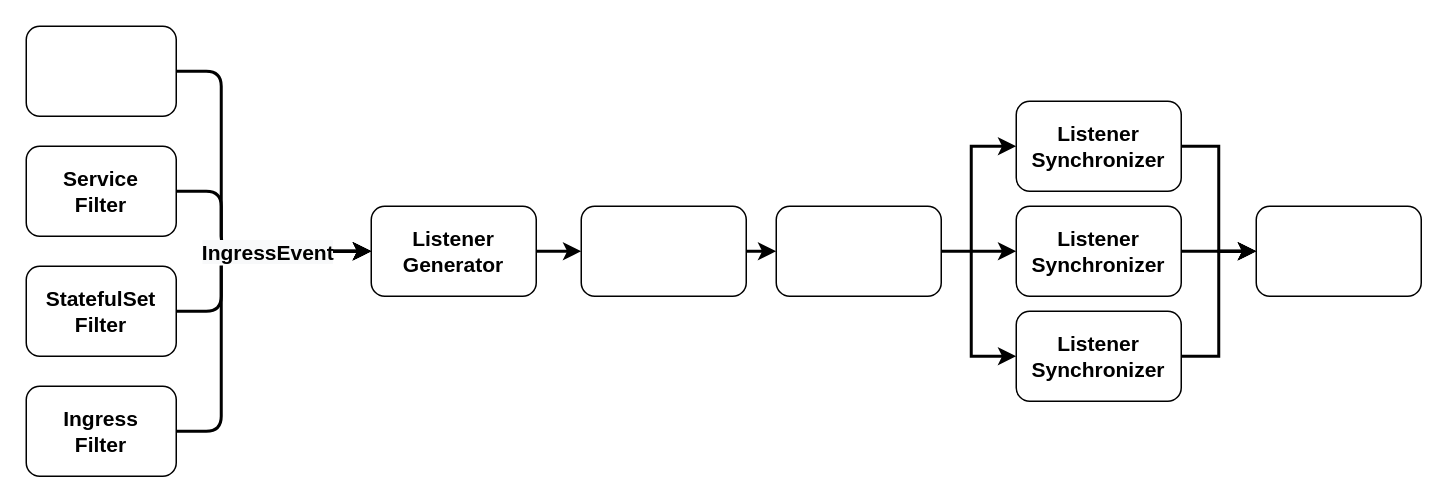
Some shapes in this 1448 by 503 pixel diagram are drawn without their labels. The centre of each missing label's shape, as x and y in pixels:
Cloud: point (1338, 250)
K8S CRD: point (663, 250)
Listener Controller: point (858, 250)
Pod Filter: point (100, 70)
